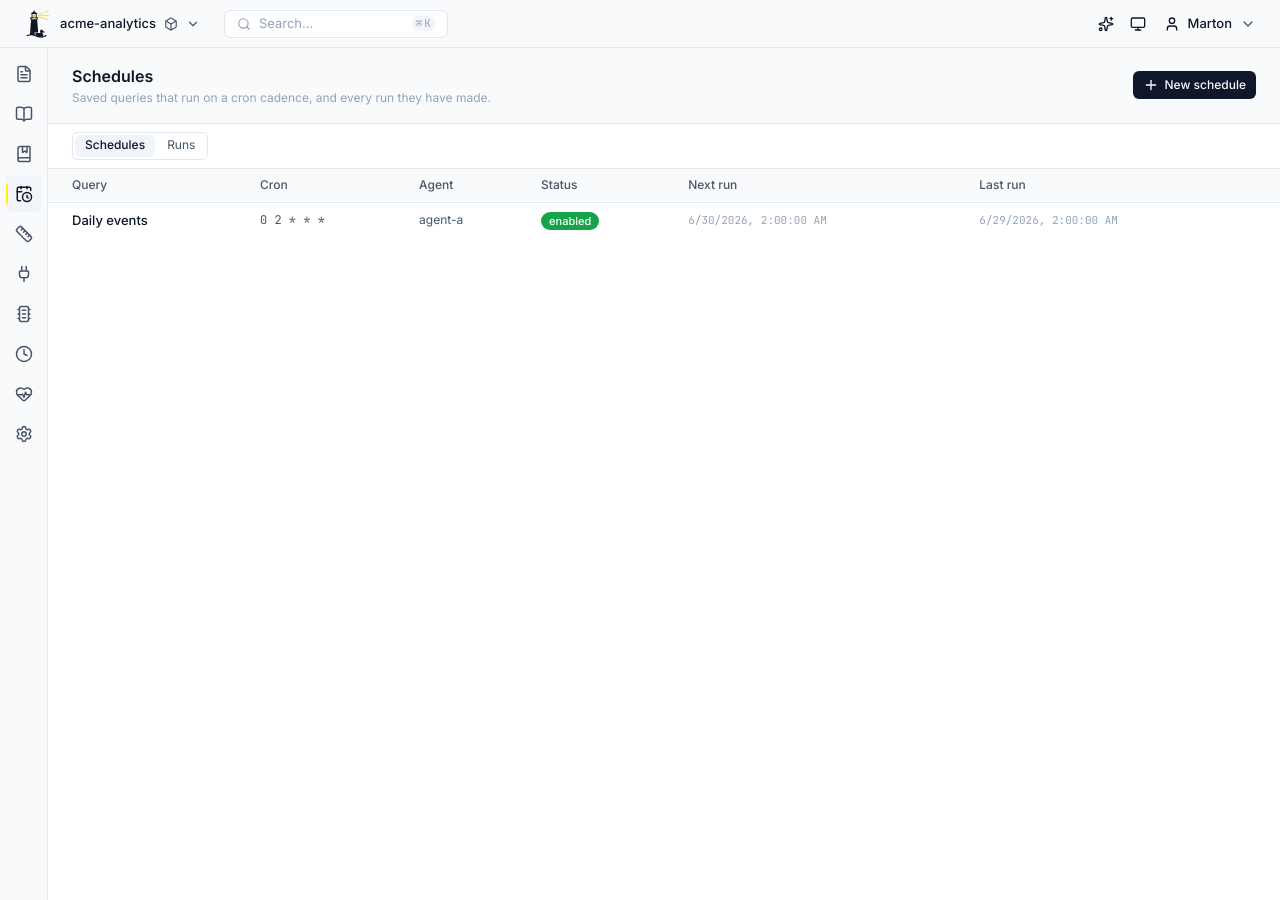
Test: SchedulesPage › opens an existing schedule for editing with its run history
Click the text "Daily events".
click(148, 220)  # box [48, 202, 248, 238]
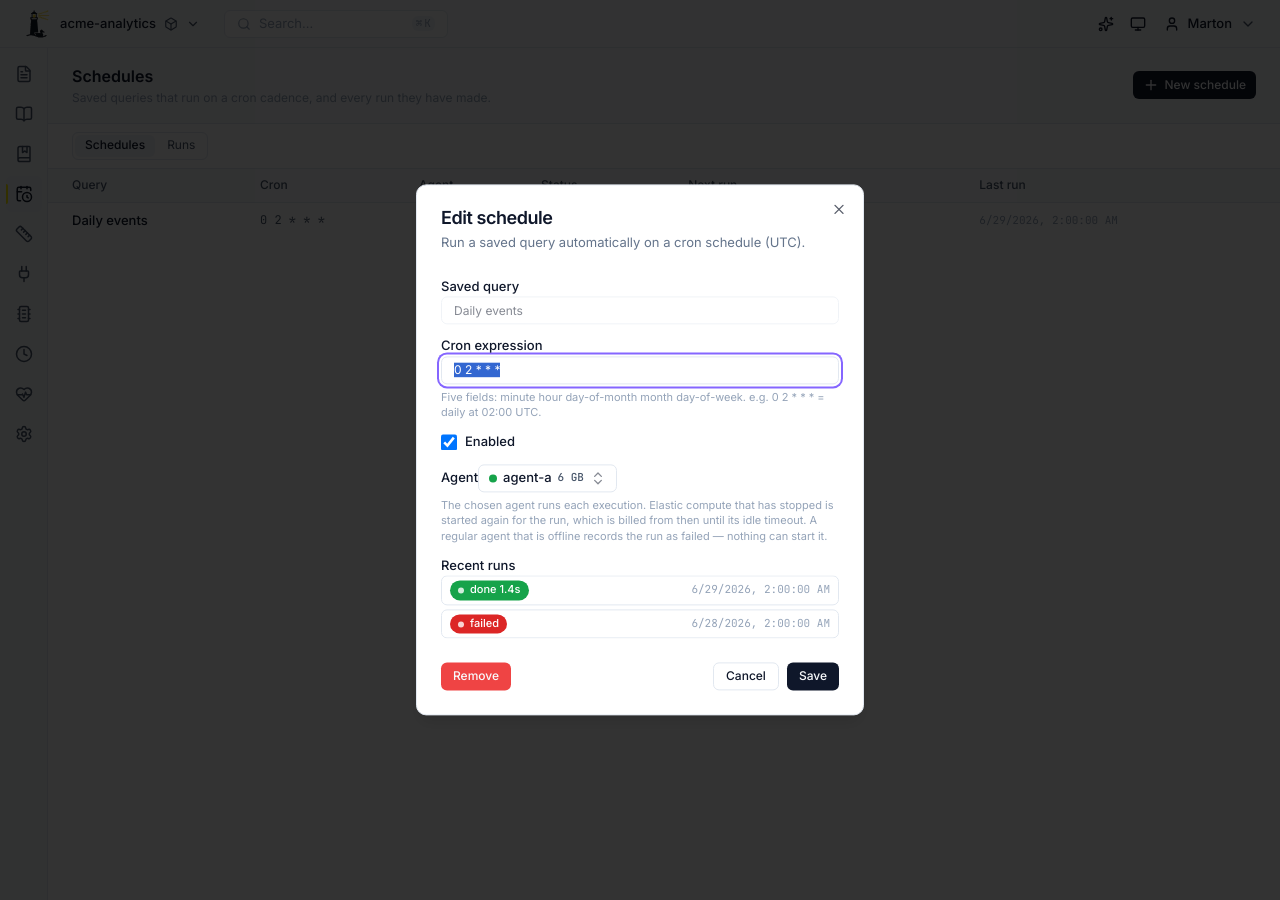
expect the heading "Edit schedule" is shown: met, box [441, 207, 552, 228]
expect the text "Recent runs" is shown: met, box [441, 557, 515, 573]
expect the button "Remove" is shown: met, box [441, 663, 511, 691]
